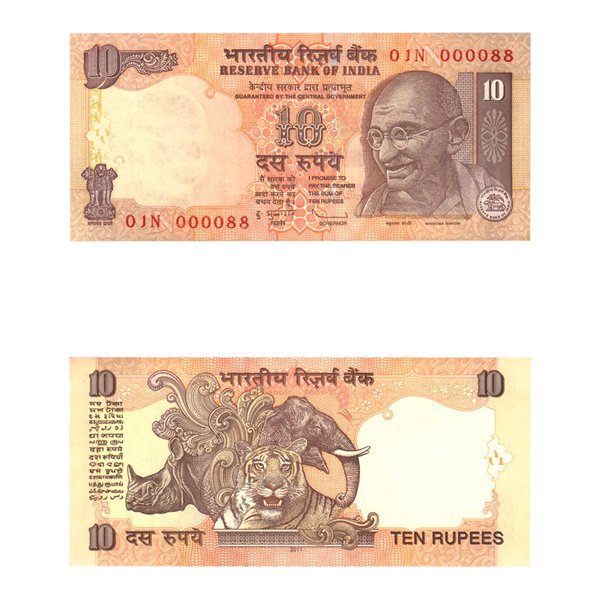ten_rupees_note: (69, 356, 529, 567), (69, 32, 530, 239)
